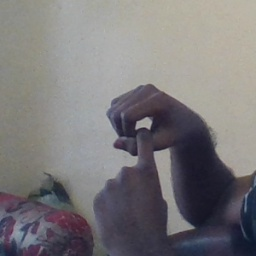Q: (88, 80, 190, 228)
